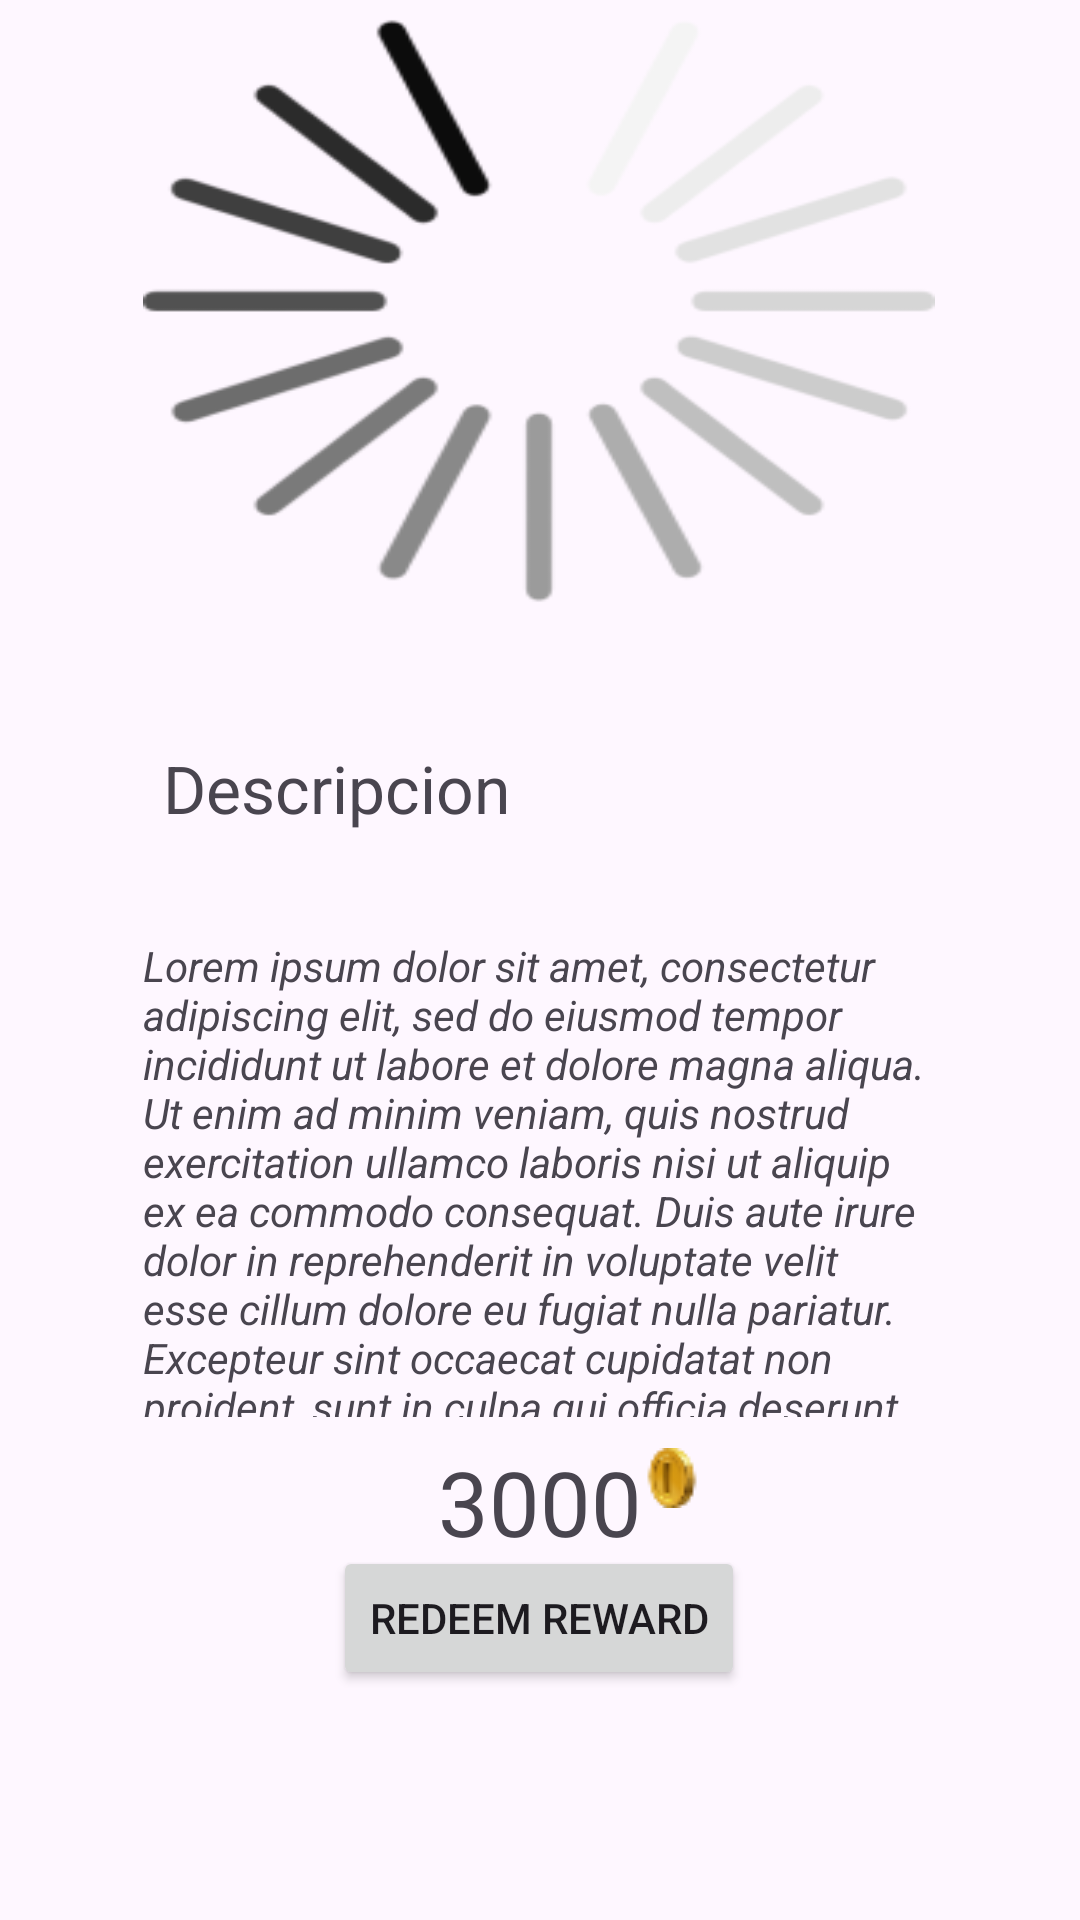

Icons on this 1080*1920 Android screen, each with its box as (x1, y1, x2, y2):
coin: (647, 1448, 697, 1508)
